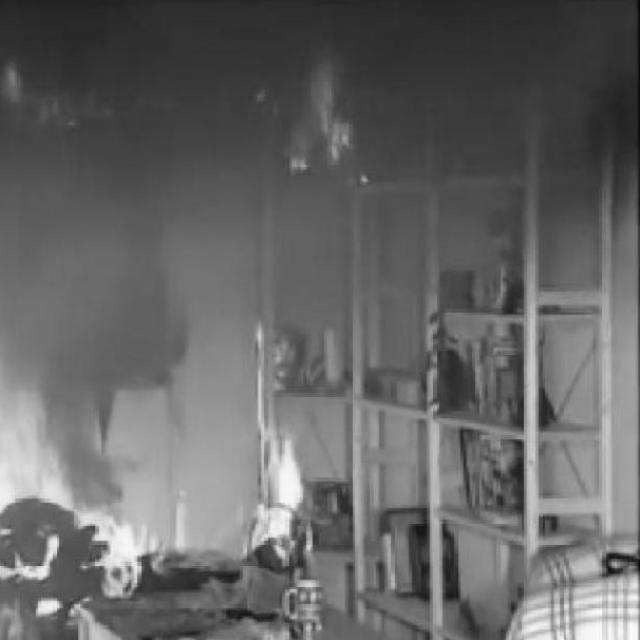fire: (426, 0, 640, 162), (0, 204, 178, 382)
smoke: (0, 270, 147, 640), (245, 318, 317, 578), (262, 61, 358, 176)
